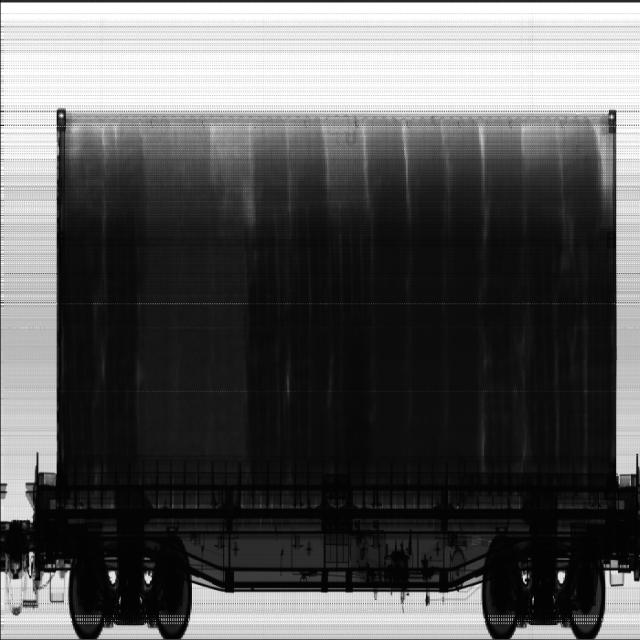clothes: (66, 120, 613, 477)
